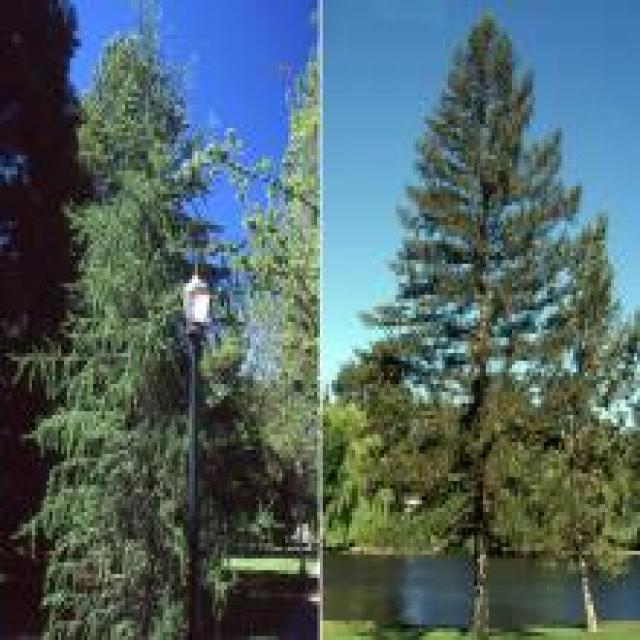Larix occidentalis: (339, 4, 633, 640), (66, 29, 270, 640)
